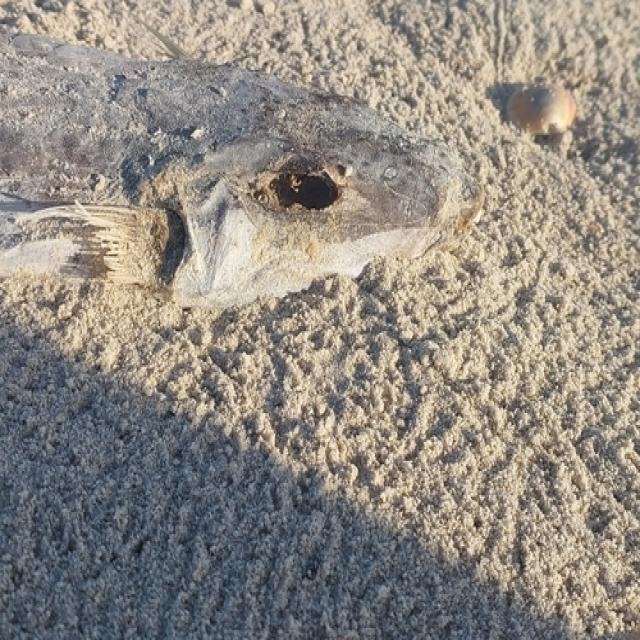Balik: (0, 31, 482, 307)
